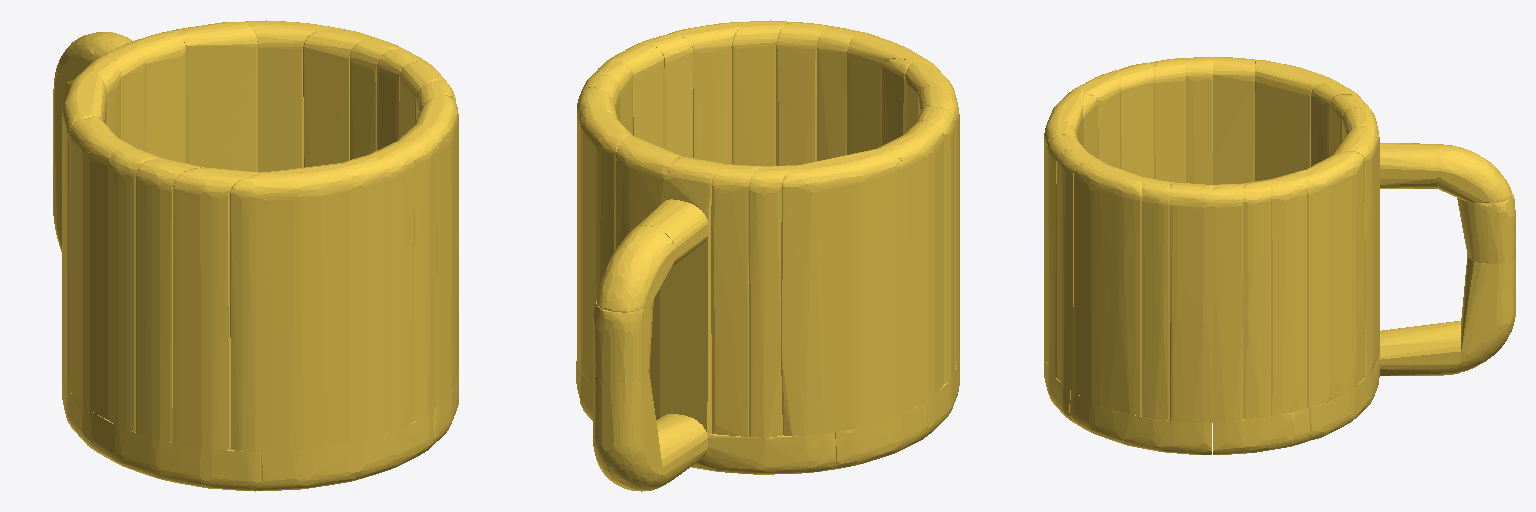
URDF robot description (134.urdf):
<?xml version="1.0" ?>
<robot name="134.urdf">
	<link name="baseLink">
		<inertial>
			<origin rpy="0 0 0" xyz="0 0 0"/>
				<mass value="0.1"/>
				<inertia ixx="6e-5" ixy="0" ixz="0" iyy="6e-5" iyz="0" izz="6e-5"/>
		</inertial>
		<visual>
			<origin rpy="0 0 0" xyz="0 0 0"/>
			<geometry>
				<mesh filename="9_decom_wt.obj" scale="1.07 1.07 0.94"/>
			</geometry>
			<material name="yellow">
				<color rgba="0.98 0.84 0.35 1"/>
			</material>
		</visual>
		<collision>
			<origin rpy="0 0 0" xyz="0 0 0"/>
			<geometry>
				<mesh filename="9_decom_wt.obj" scale="1.07 1.07 0.94"/>
			</geometry>
		</collision>
	</link>
</robot>

--- Render facts (derived) ---
The picture shows the robot from 3 angles, left to right: view 1: azimuth 30°, elevation 25°; view 2: azimuth 150°, elevation 25°; view 3: azimuth 270°, elevation 25°; orthographic projection.
Robot: 134.urdf — 1 links, 0 joints (none); root link baseLink; default pose: every joint at zero.
Visible links, largest first — view 1: baseLink; view 2: baseLink; view 3: baseLink.
Link boxes in pixels (x1,y1,x2,y2): baseLink: (53,20,458,491); baseLink: (576,20,959,491); baseLink: (1044,57,1515,454).
Bounding box of the posed robot: 0.1133 × 0.1592 × 0.0992 m (x, y, z).
1 mesh visuals loaded from 1 distinct referenced files (1 OBJ).